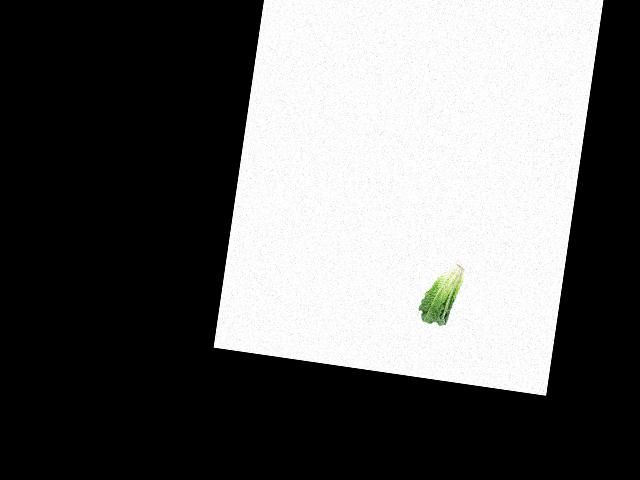lettuce: (417, 256, 468, 330)
